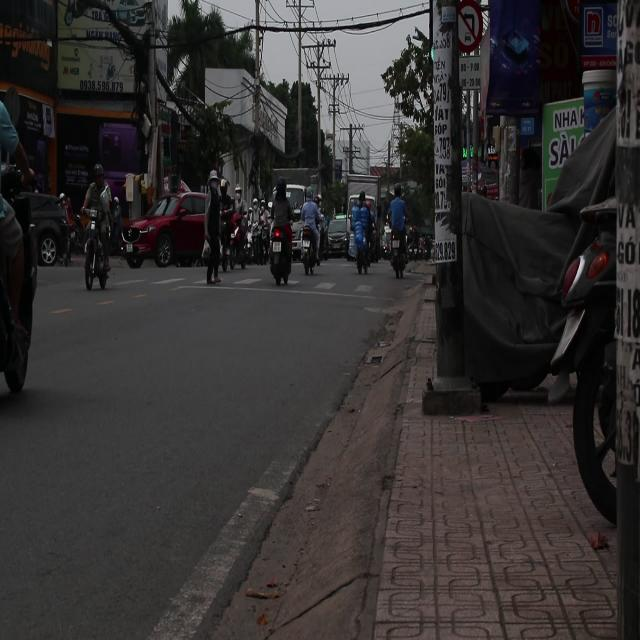car: (124, 192, 218, 269), (6, 190, 72, 270), (326, 216, 351, 259)
motorbike: (80, 208, 112, 292), (266, 222, 294, 284), (297, 220, 324, 278), (252, 220, 270, 266)
